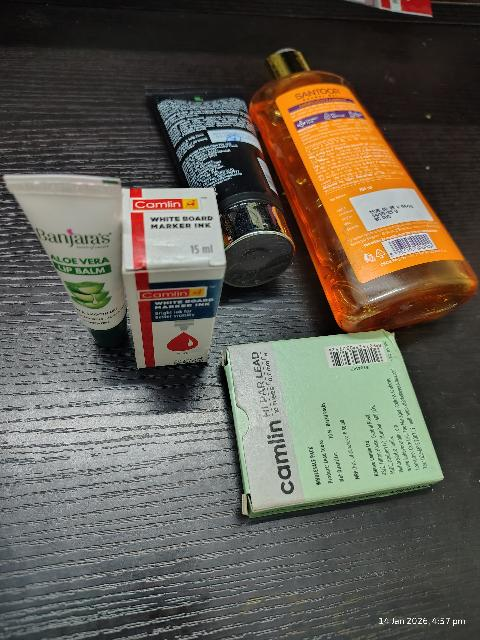banjaras lipbam: (6, 173, 128, 367)
camlin lids: (225, 340, 438, 512)
camlin marker ink: (131, 192, 219, 381)
jovees herbal: (153, 95, 268, 187)
santoor bodywash: (287, 57, 443, 311)
